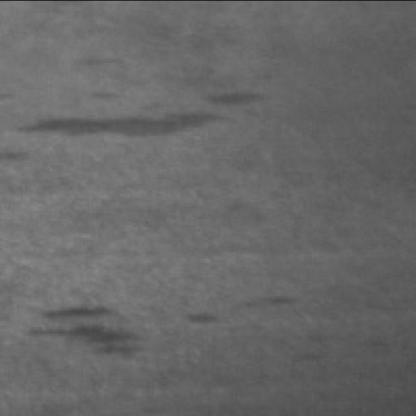inclusion: (6, 75, 270, 137), (16, 287, 148, 362), (172, 281, 304, 331)
